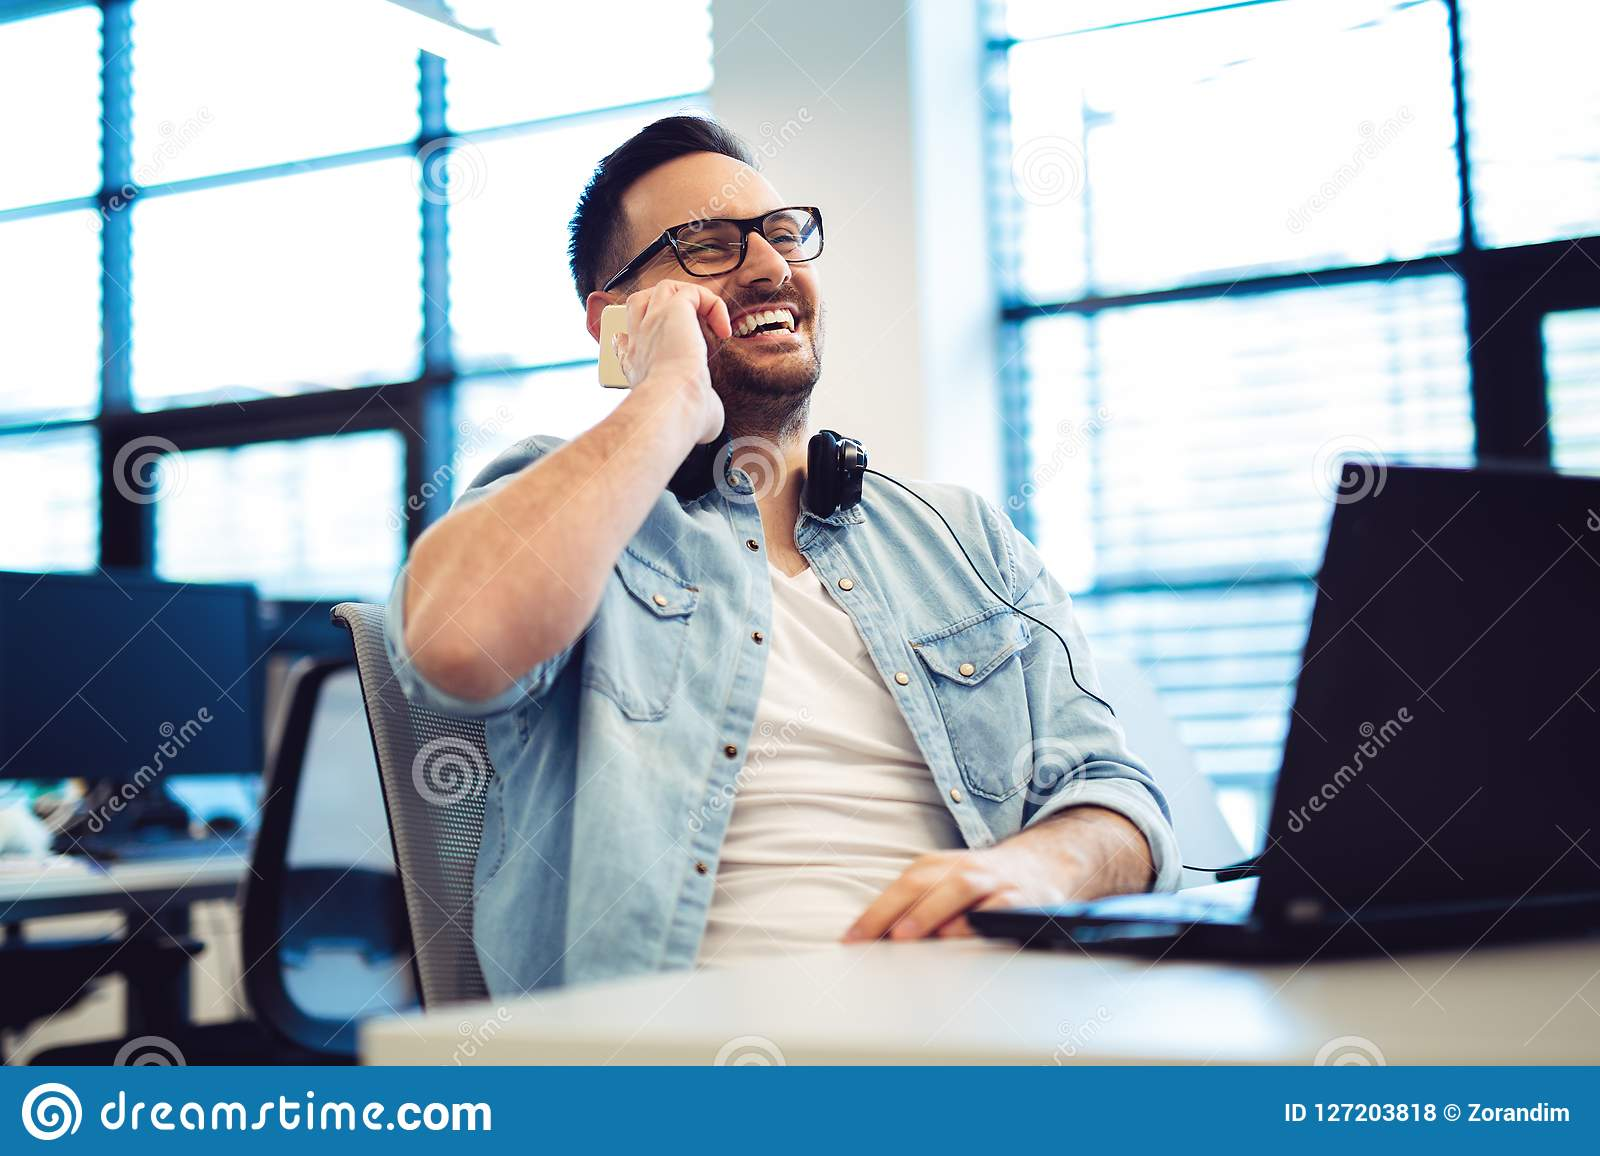phone: (593, 296, 706, 399)
talk: (588, 205, 842, 448)
